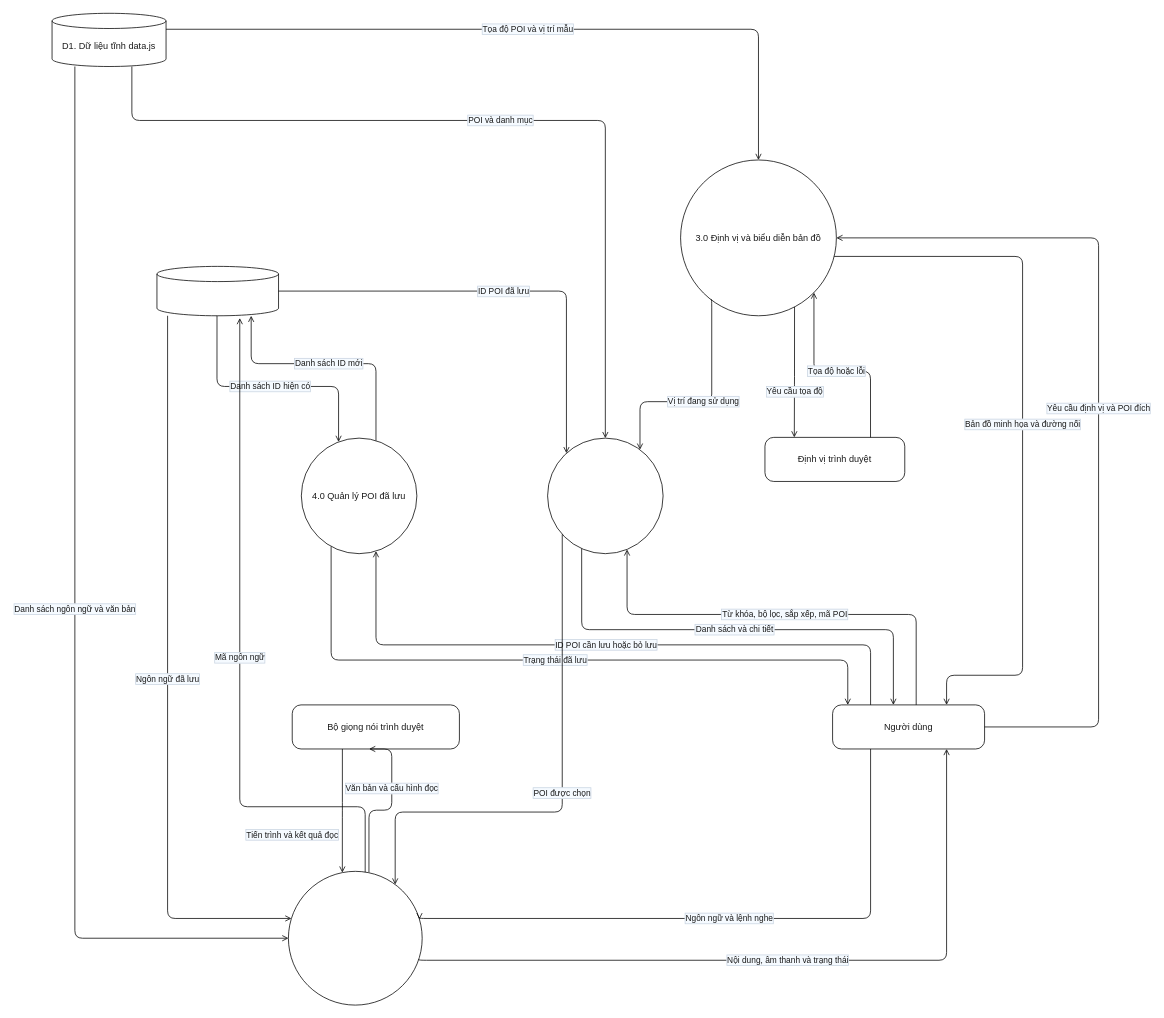
Image size: 1164x1018. Some labels were removed from this diagram. The shapes that lost their labels are listed below. From the top down, each one's centre as x and y in pixels, then its label:
(217,291): D2. localStorage
(605,495): 1.0 Tra cứu và xem POI
(355,938): 2.0 Chọn ngôn ngữ và đọc thuyết minh
